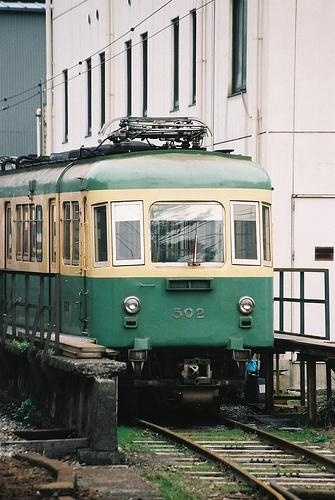train: (12, 114, 275, 412)
